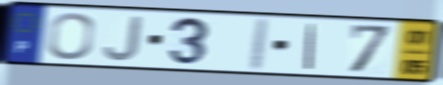3: (165, 15, 215, 68)
7: (347, 22, 395, 75)
I: (245, 16, 273, 73), (302, 22, 319, 72)
J: (101, 15, 145, 63)
O: (45, 11, 97, 62)
